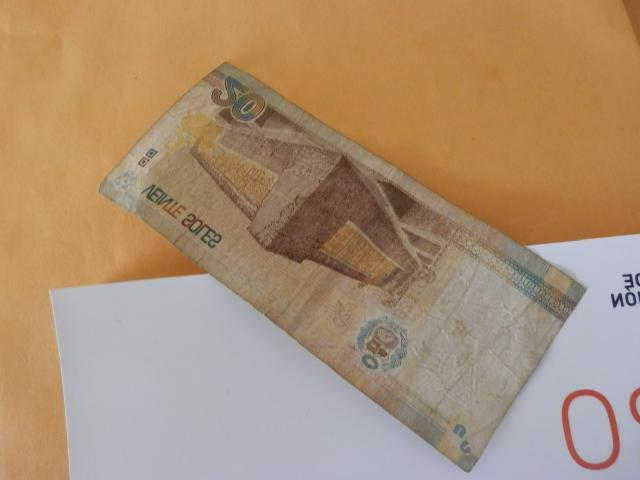B20: (97, 62, 585, 473)
